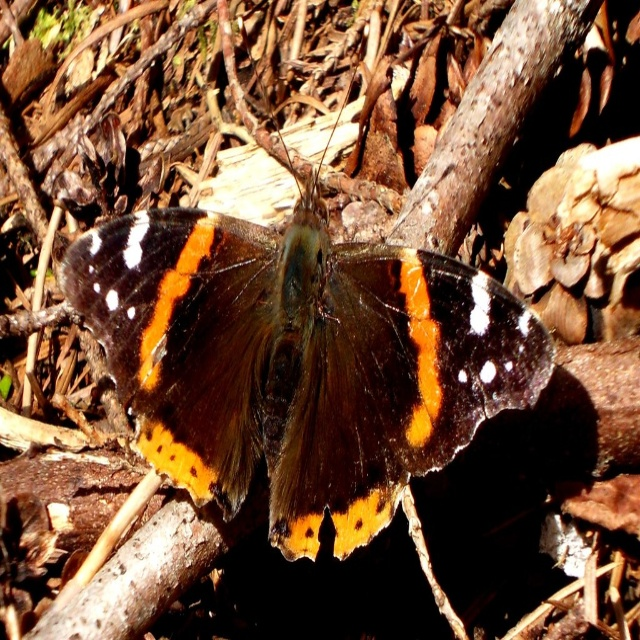Butterfly: (66, 98, 571, 576)
